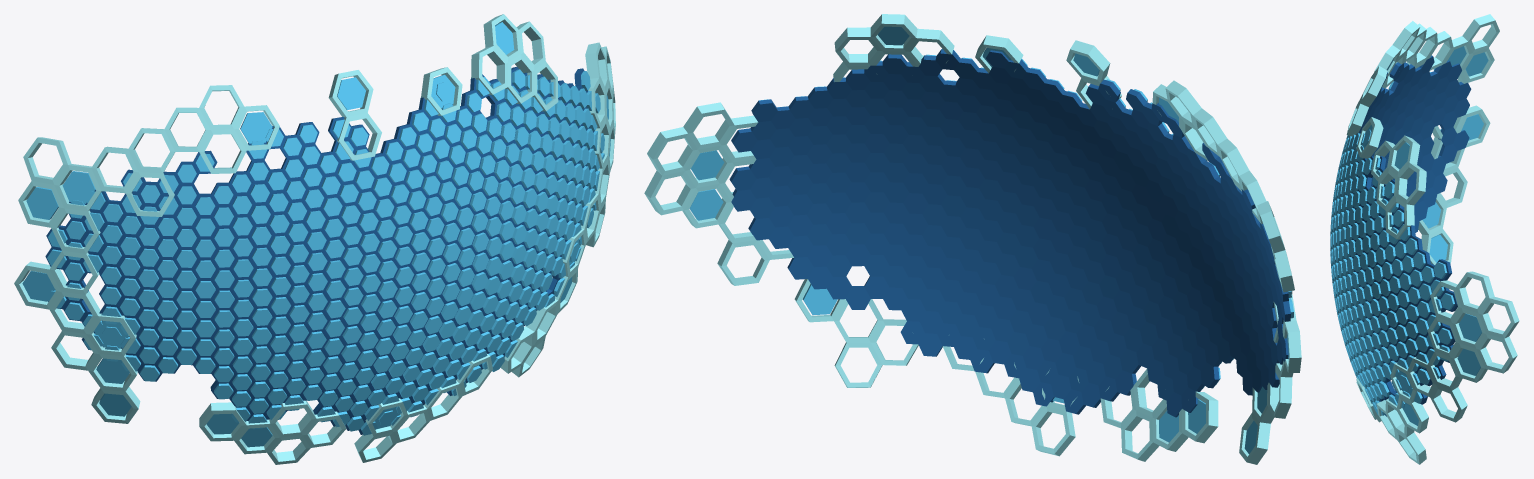
Rendered from escudo_2_ovalado.obj.
3 views of the same model, side by side, from view 1: azimuth 30°, elevation 25°; view 2: azimuth 150°, elevation 25°; view 3: azimuth 270°, elevation 25° (orthographic). The views are drawn at different scales.
Visible parts, largest first — view 1: escudo_2_ovalado; view 2: escudo_2_ovalado; view 3: escudo_2_ovalado.
Part boxes in pixels (x1,y1,x2,y2): escudo_2_ovalado: (14, 14, 615, 464); escudo_2_ovalado: (644, 14, 1301, 464); escudo_2_ovalado: (1330, 14, 1519, 464).
Bounding box in the file's own units: 6.22 × 3.85 × 1.94.
Materials: 1 (1 with a texture image).
